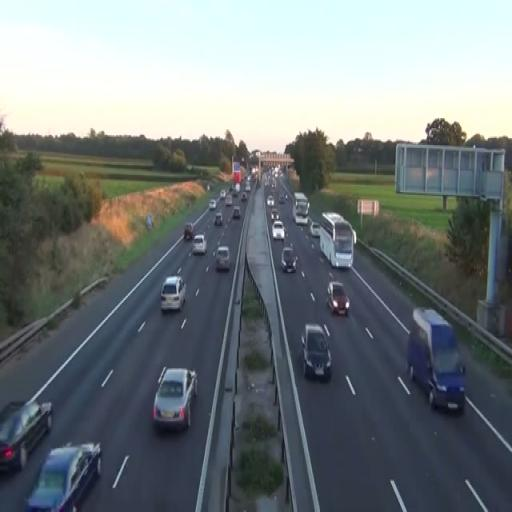Bus: (320, 211, 354, 270)
Car: (21, 440, 103, 511), (0, 399, 53, 474), (152, 367, 198, 432), (302, 322, 332, 382), (160, 275, 187, 314), (326, 281, 350, 316), (281, 246, 298, 273), (215, 246, 231, 272), (192, 234, 207, 255), (272, 220, 285, 241)
Truck: (406, 307, 466, 413)
